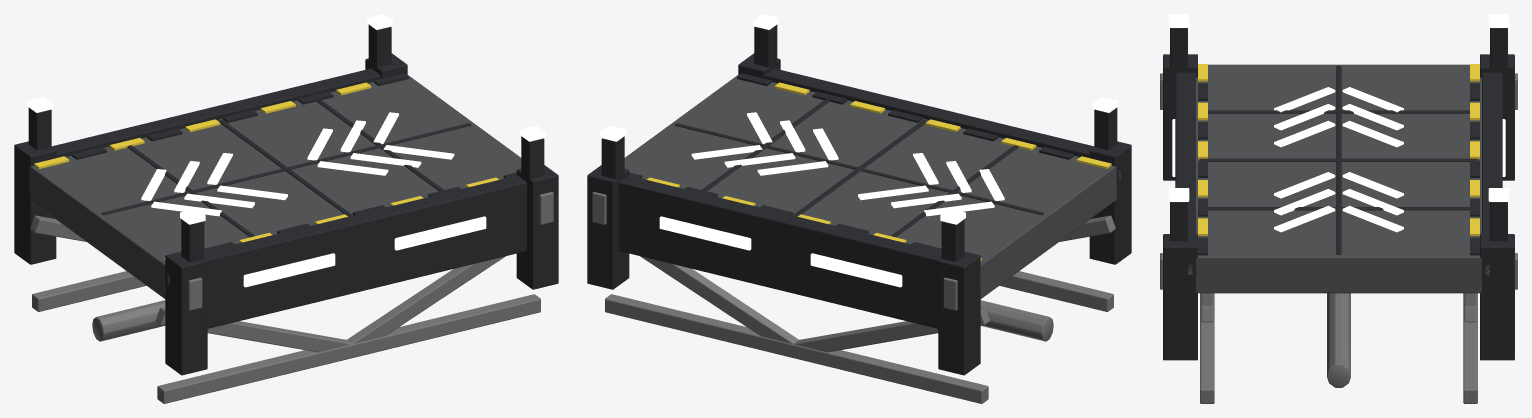
File: Deck_Retract_v2.glb
3 renders of one model, left to right at view 1: azimuth 30°, elevation 25°; view 2: azimuth 150°, elevation 25°; view 3: azimuth 270°, elevation 25°, orthographic. The views are drawn at different scales.
Parts seen in each view (by area): view 1: Deck_Retract_v2; view 2: Deck_Retract_v2; view 3: Deck_Retract_v2.
Part boxes in pixels (x1,y1,x2,y2): Deck_Retract_v2: [14, 14, 558, 403]; Deck_Retract_v2: [587, 14, 1131, 403]; Deck_Retract_v2: [1160, 14, 1517, 403].
Bounding box in the file's own units: 4.04 × 1.96 × 3.13.
